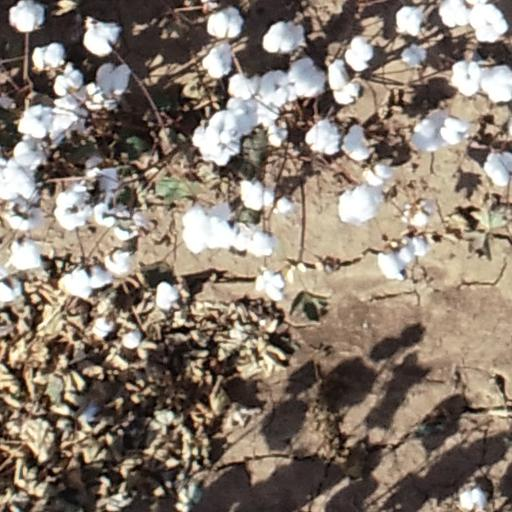Boll: (182, 206, 233, 252), (198, 114, 237, 161), (97, 204, 142, 242), (263, 19, 305, 52), (413, 111, 447, 150), (341, 188, 379, 221), (472, 6, 506, 42), (84, 20, 121, 53), (292, 59, 325, 95), (58, 186, 87, 226), (18, 106, 54, 138), (332, 58, 359, 100), (241, 177, 273, 212), (1, 168, 36, 200), (480, 66, 511, 102), (261, 70, 292, 106), (69, 268, 108, 296), (307, 121, 339, 154), (207, 6, 241, 37), (377, 248, 414, 276), (96, 63, 127, 95), (204, 45, 233, 78), (14, 138, 47, 167), (345, 126, 373, 160), (232, 95, 258, 131), (11, 238, 40, 270), (10, 3, 43, 31), (255, 270, 285, 300), (453, 62, 480, 95), (32, 42, 64, 69), (56, 98, 84, 128), (241, 228, 272, 255), (7, 203, 40, 228), (438, 1, 472, 25), (397, 6, 423, 35), (486, 154, 511, 183), (54, 67, 81, 93), (232, 71, 258, 97), (347, 39, 371, 67), (407, 201, 431, 228), (107, 250, 133, 274), (407, 233, 432, 257), (441, 119, 467, 141), (460, 490, 487, 510), (157, 284, 177, 309), (402, 45, 426, 65), (366, 165, 389, 185), (96, 321, 115, 339)
